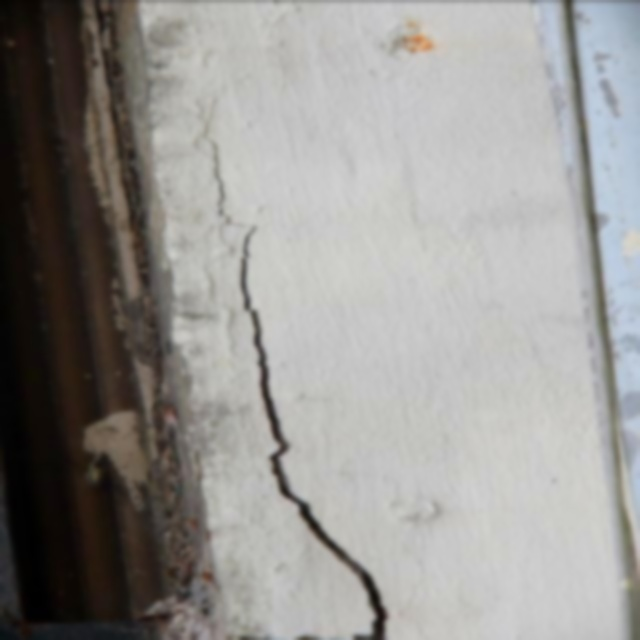SurfaceCrack: (47, 0, 429, 637), (522, 0, 639, 637)
